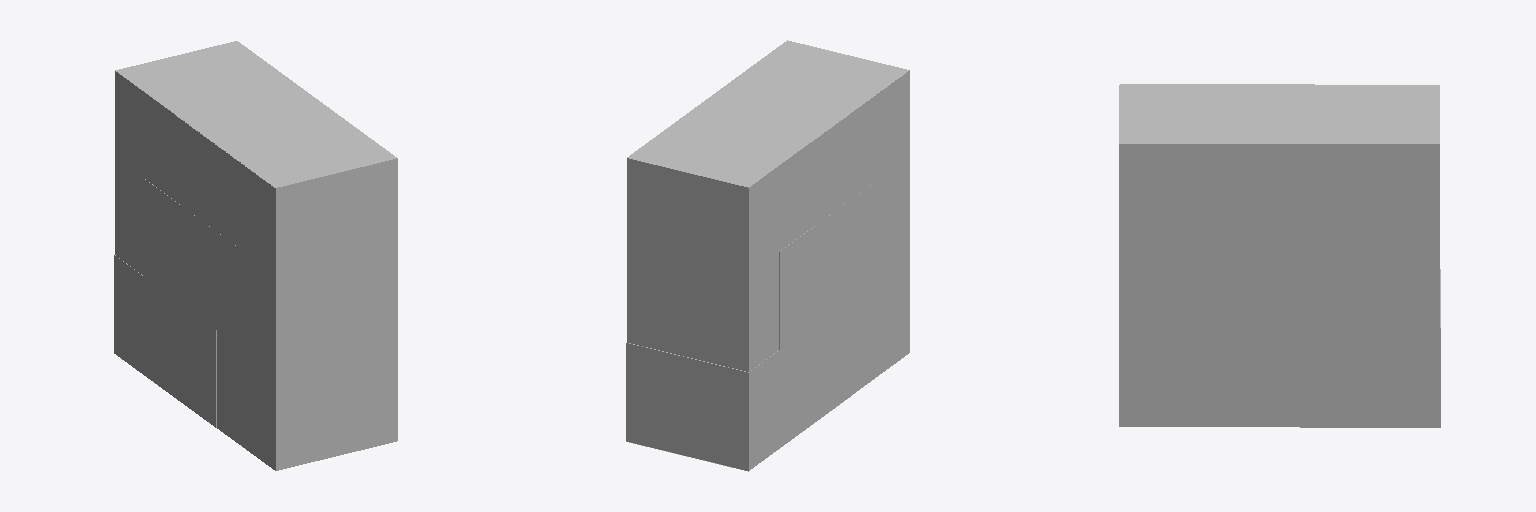
The picture shows the model from 3 angles: view 1: azimuth 30°, elevation 25°; view 2: azimuth 150°, elevation 25°; view 3: azimuth 270°, elevation 25°; orthographic projection.
Visible parts, largest first — view 1: HITBOX_MODEL_Cube.001, HITBOX_OBJECT_1_Cube.003, HITBOX_OBJECT_2_Cube.002, HITBOX_OBJECT_3_Cube.004; view 2: HITBOX_MODEL_Cube.001, HITBOX_OBJECT_1_Cube.003, HITBOX_OBJECT_2_Cube.002, HITBOX_OBJECT_3_Cube.004; view 3: HITBOX_MODEL_Cube.001, OBJECT_Cube.
Part boxes in pixels (x1,y1,x2,y2): HITBOX_MODEL_Cube.001: (115,41,397,470); HITBOX_OBJECT_1_Cube.003: (114,255,216,427); HITBOX_OBJECT_2_Cube.002: (145,179,247,352); HITBOX_OBJECT_3_Cube.004: (177,116,274,273); HITBOX_MODEL_Cube.001: (627,40,909,395); HITBOX_OBJECT_1_Cube.003: (626,299,850,470); HITBOX_OBJECT_2_Cube.002: (779,177,881,349); HITBOX_OBJECT_3_Cube.004: (812,71,909,227); HITBOX_MODEL_Cube.001: (1119,85,1439,426); OBJECT_Cube: (1120,145,1440,427).
Size of the model in its own units: 2.01 by 4.43 by 4.57.